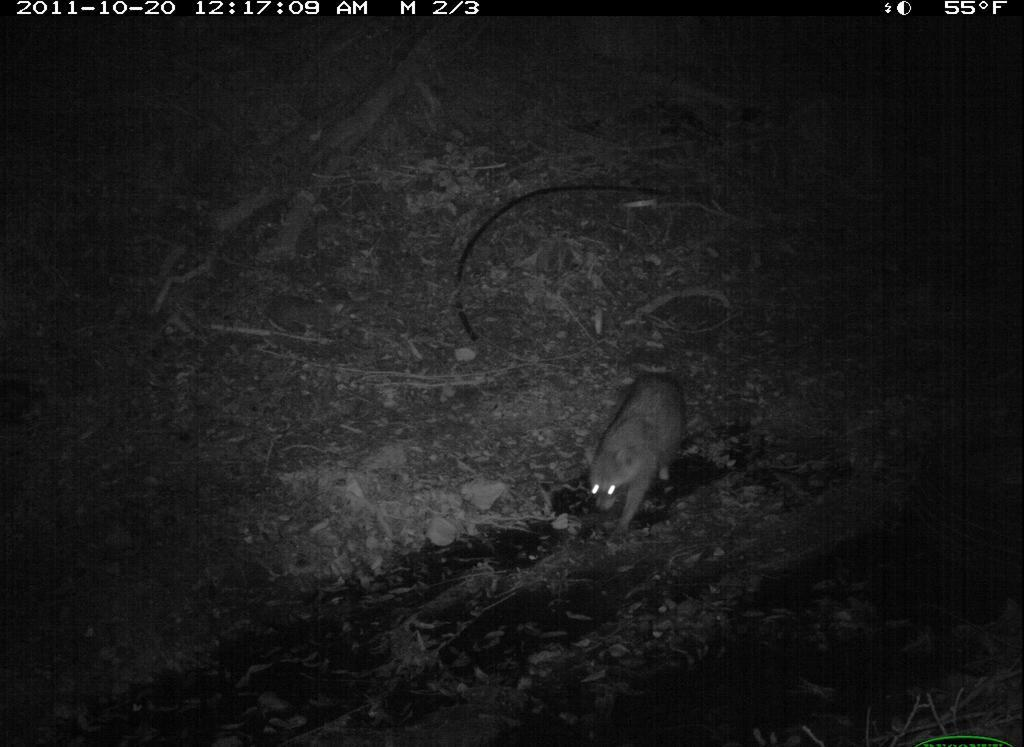raccoon: (580, 336, 701, 547)
